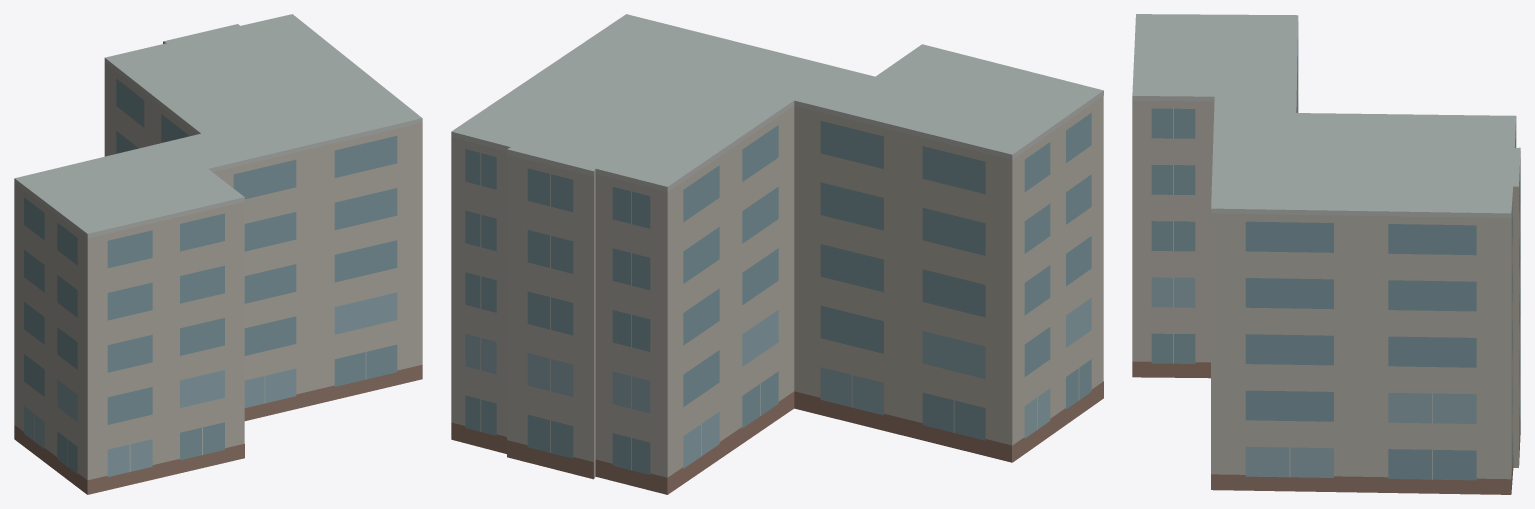
Rendered from survey-upis-32807353.glb.
The picture shows the model from 3 angles, left to right: view 1: azimuth 30°, elevation 25°; view 2: azimuth 150°, elevation 25°; view 3: azimuth 270°, elevation 25°; orthographic projection. The views are drawn at different scales.
Parts seen in each view (by area): view 1: survey-upis-32807353.tmp; view 2: survey-upis-32807353.tmp; view 3: survey-upis-32807353.tmp.
Part boxes in pixels (bbox=[...]): survey-upis-32807353.tmp: bbox=[14, 14, 422, 494]; survey-upis-32807353.tmp: bbox=[451, 14, 1103, 494]; survey-upis-32807353.tmp: bbox=[1132, 14, 1520, 494].
Size of the model in its own units: 21.74 by 14.3 by 17.89.
